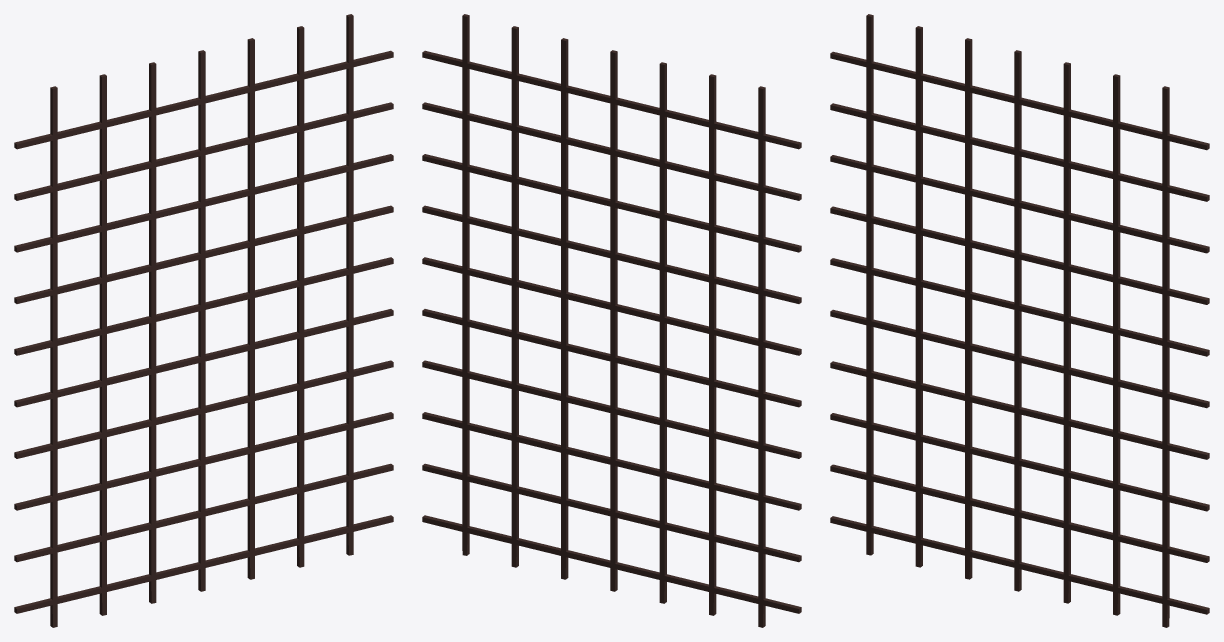
File: Arch_bars.glb
3 views of the same model, side by side, from view 1: azimuth 30°, elevation 25°; view 2: azimuth 150°, elevation 25°; view 3: azimuth 330°, elevation 25° (orthographic).
Visible parts, largest first — view 1: Arch_bars; view 2: Arch_bars; view 3: Arch_bars.
Part boxes in pixels (x1,y1,x2,y2): Arch_bars: (14,14,393,627); Arch_bars: (422,14,801,627); Arch_bars: (830,14,1209,627).
Bounding box in the file's own units: 2.48 × 3.39 × 0.0303.
